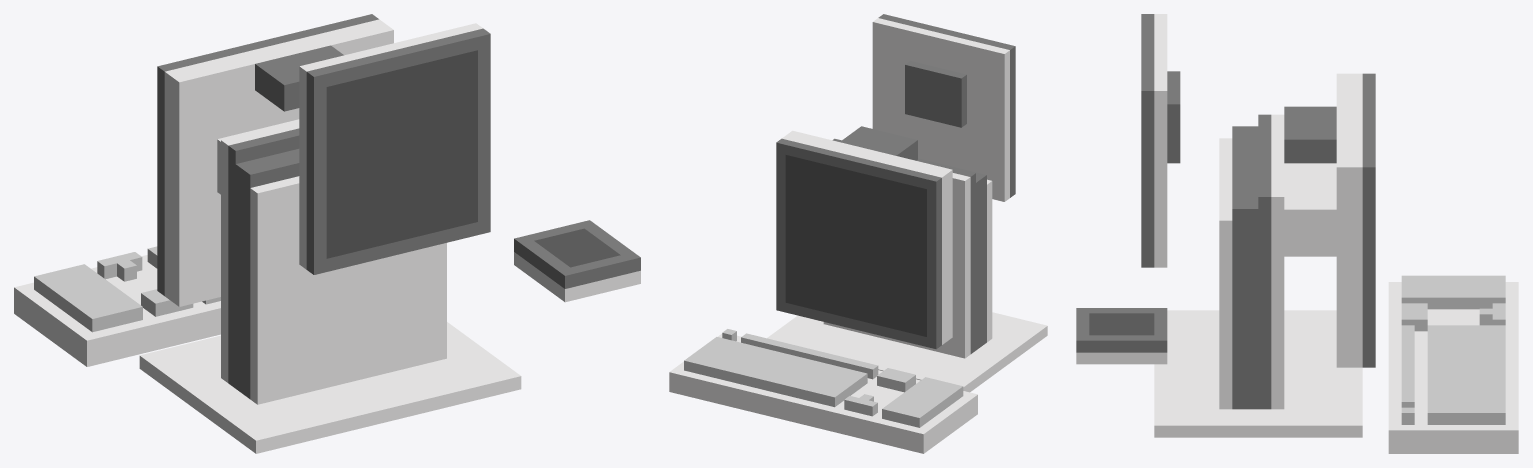
File: Cafe_Counter1-1.fbx
3 renders of one model, left to right at view 1: azimuth 30°, elevation 25°; view 2: azimuth 150°, elevation 25°; view 3: azimuth 270°, elevation 25°, orthographic. The views are drawn at different scales.
Parts seen in each view (by area): view 1: Cafe Counter1-1.002, Cafe Counter1-1.004, Cafe Counter1-1.003, Cafe Counter1-1.001, Cafe Counter1-1, Cafe Counter1-1.005; view 2: Cafe Counter1-1.003, Cafe Counter1-1.001, Cafe Counter1-1.004, Cafe Counter1-1.002, Cafe Counter1-1.005; view 3: Cafe Counter1-1.002, Cafe Counter1-1.001, Cafe Counter1-1.003, Cafe Counter1-1.004, Cafe Counter1-1, Cafe Counter1-1.005.
Part boxes in pixels (<box>): Cafe Counter1-1.002: <box>139,119,521,453</box>; Cafe Counter1-1.004: <box>299,23,490,274</box>; Cafe Counter1-1.003: <box>157,14,393,306</box>; Cafe Counter1-1.001: <box>14,246,220,366</box>; Cafe Counter1-1: <box>514,220,640,302</box>; Cafe Counter1-1.005: <box>255,45,343,111</box>; Cafe Counter1-1.003: <box>776,130,952,349</box>; Cafe Counter1-1.001: <box>669,329,977,453</box>; Cafe Counter1-1.004: <box>872,14,1015,201</box>; Cafe Counter1-1.002: <box>767,138,1047,392</box>; Cafe Counter1-1.005: <box>840,126,917,160</box>; Cafe Counter1-1.002: <box>1154,114,1362,437</box>; Cafe Counter1-1.001: <box>1388,275,1518,453</box>; Cafe Counter1-1.003: <box>1336,73,1375,367</box>; Cafe Counter1-1.004: <box>1141,14,1180,267</box>; Cafe Counter1-1: <box>1076,308,1167,364</box>; Cafe Counter1-1.005: <box>1284,106,1336,163</box>.
Size of the model in its own units: 3 by 2.8 by 3.4.
